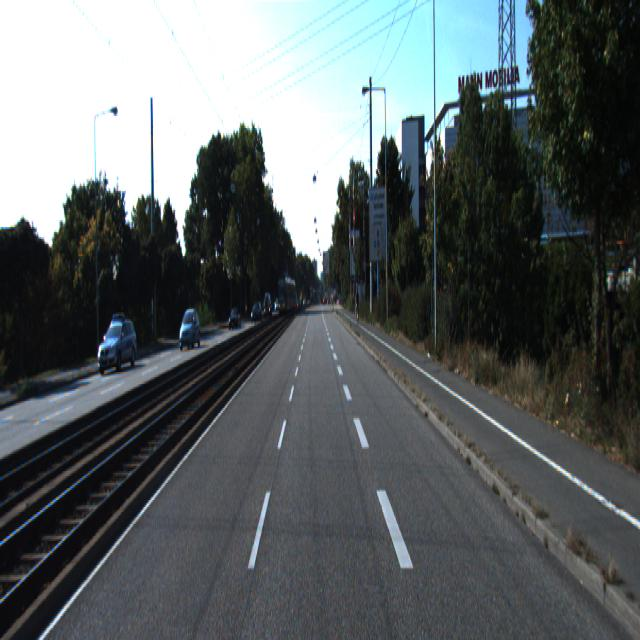Car: (97, 316, 138, 377), (177, 308, 201, 352)
